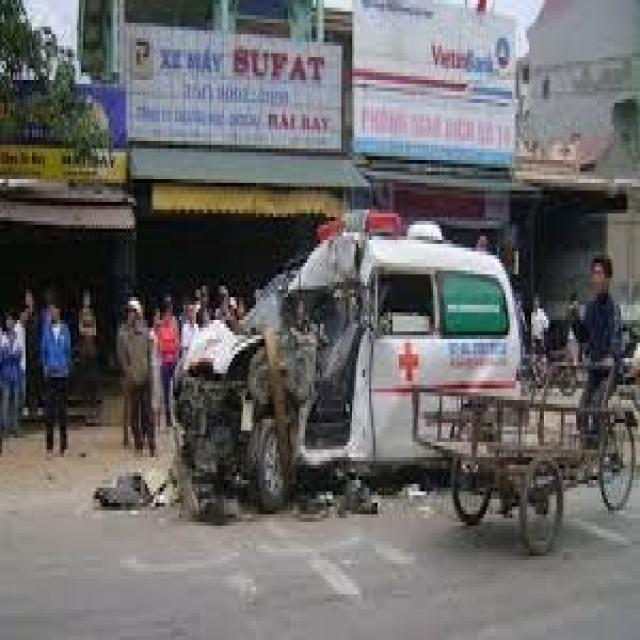accident: (132, 201, 388, 535)
